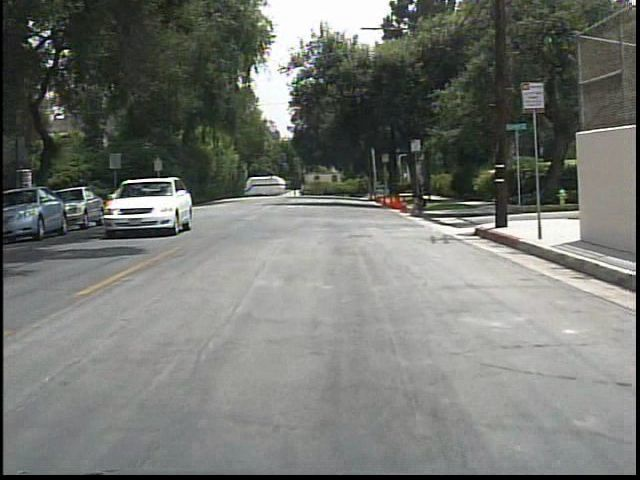person: (406, 189, 434, 221)
